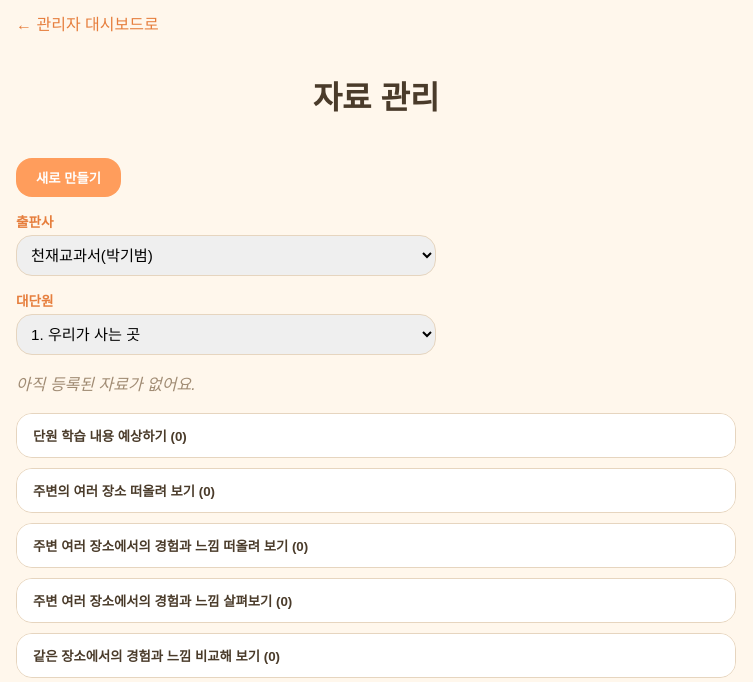
Test case: MaterialsAdminPage (전체관리자로 로그인) › http(s)로 시작하지 않는 자료 링크는 추가되지 않고 안내 문구를 보여준다
Click the button "새로 만들기": (68, 177) [16,158,121,197]
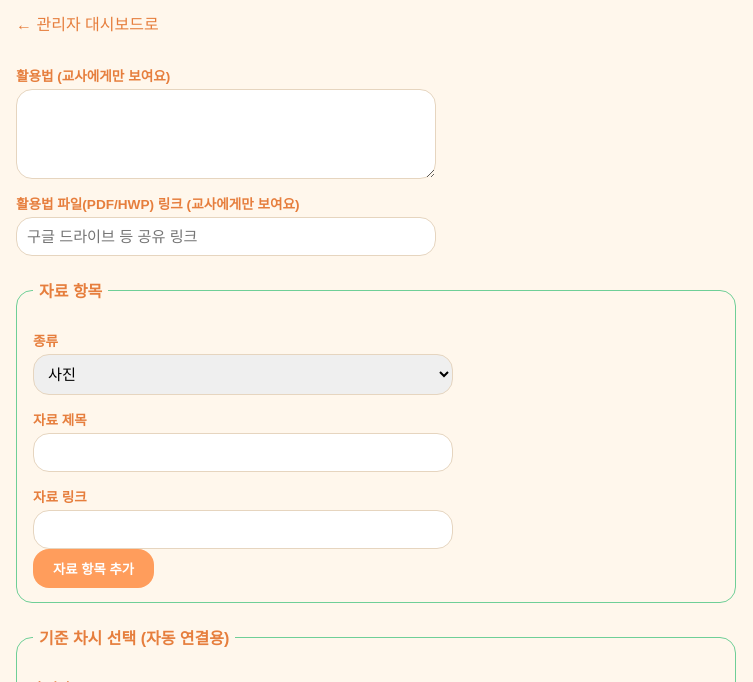
In the field labelled "자료 링크": (243, 530) [33,510,453,549], type "javascript:alert(1)"
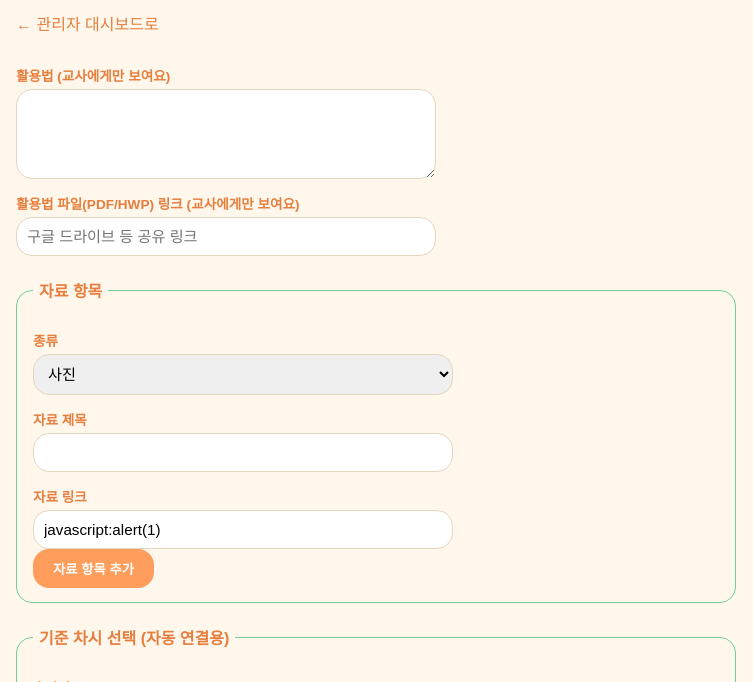
Click the button "자료 항목 추가": (94, 568) [33,549,154,588]
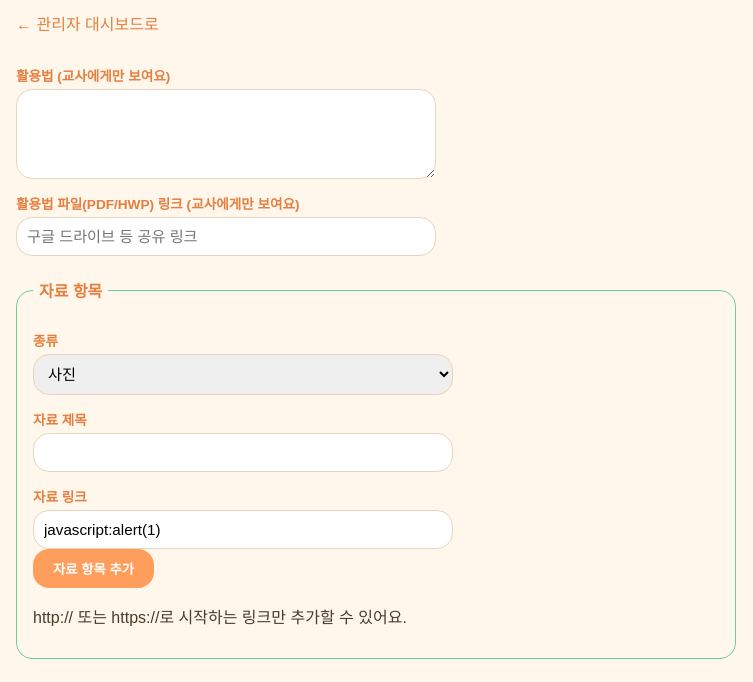
Expected: the text "http:// 또는 https://로 시작하는 링크만 추가할 수 있어요." is shown, [33,609,407,626]
